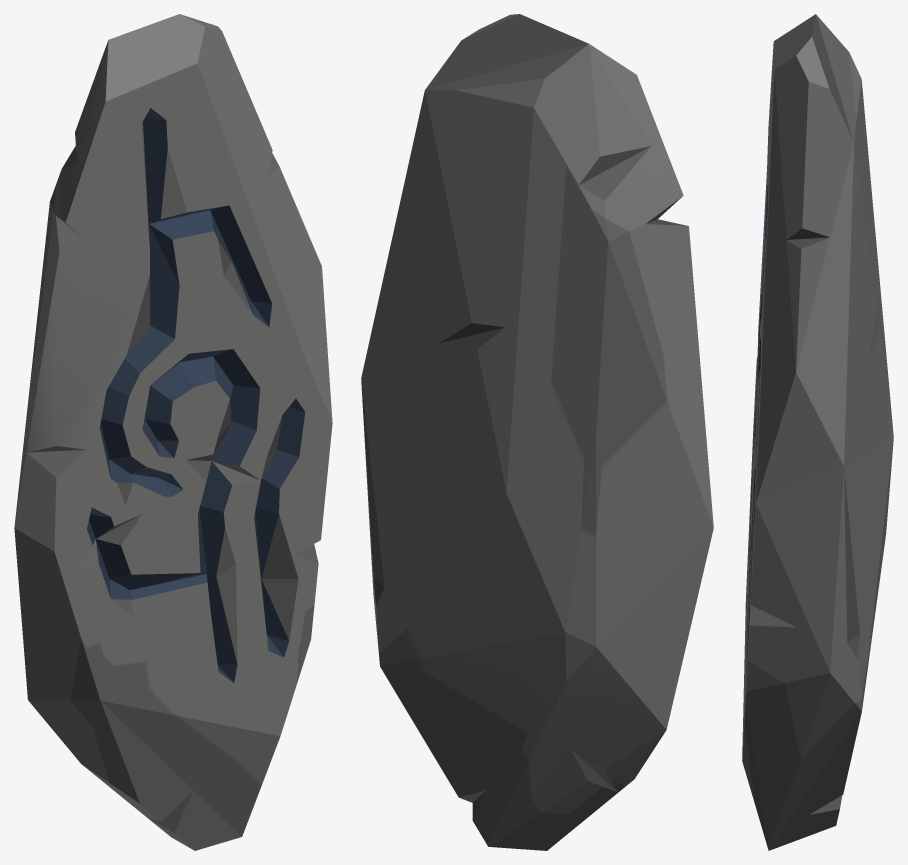
The model's file is SM_Prop_StoneRunes_01.fbx.
3 views of the same model, side by side, from view 1: azimuth 30°, elevation 25°; view 2: azimuth 150°, elevation 25°; view 3: azimuth 270°, elevation 25° (orthographic). The views are drawn at different scales.
Parts seen in each view (by area): view 1: SM_Prop_StoneRunes_01; view 2: SM_Prop_StoneRunes_01; view 3: SM_Prop_StoneRunes_01.
Part boxes in pixels (x1=…): SM_Prop_StoneRunes_01: x1=14, y1=14, x2=332, y2=850; SM_Prop_StoneRunes_01: x1=361, y1=14, x2=713, y2=850; SM_Prop_StoneRunes_01: x1=742, y1=14, x2=893, y2=850.
Size of the model in its own units: 133 by 333 by 57.35.
Materials: 1 (1 with a texture image).
